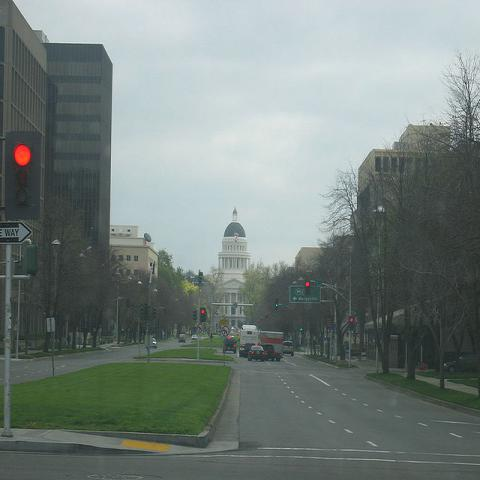bus: (239, 324, 260, 358)
car: (443, 352, 479, 371), (248, 345, 265, 362), (260, 343, 276, 361), (222, 338, 236, 354), (283, 341, 294, 357), (178, 334, 186, 343), (153, 337, 157, 349), (192, 334, 197, 340)
truck: (258, 330, 284, 361), (283, 340, 294, 357)
